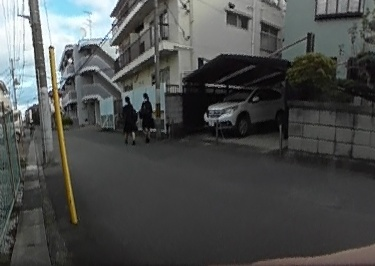person: (119, 92, 138, 142), (137, 91, 155, 141)
